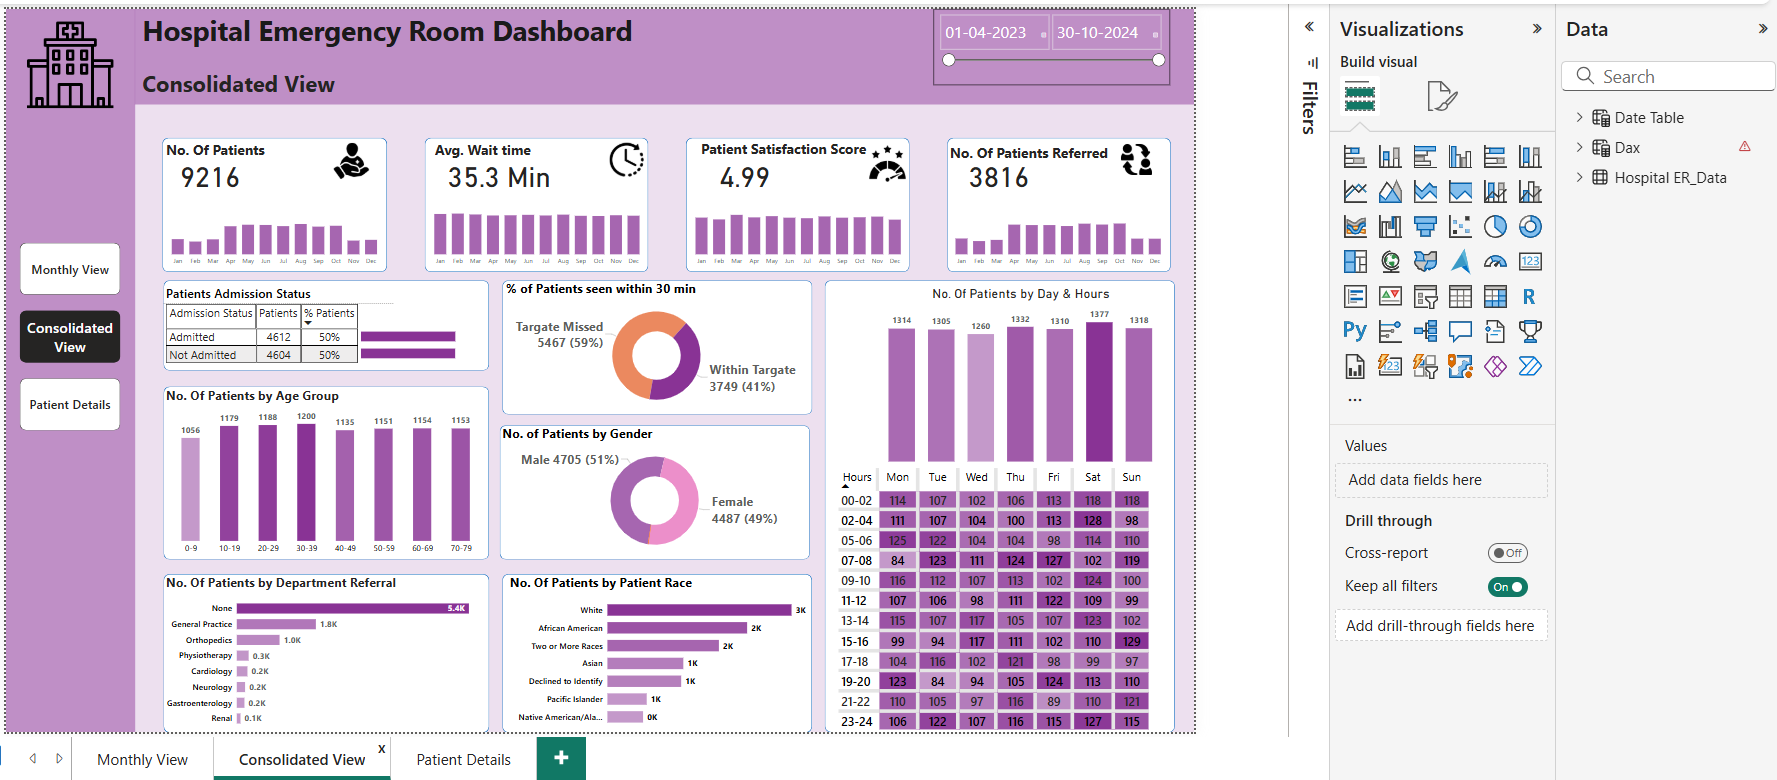

The dashboard page shown, as its layout file describes it:
{"tool":"powerbi","page":{"name":"Consolidated View","canvas":[2300,1400],"ordinal":1},"visuals":[{"type":"shape","box":[955,805,600,260],"z":0},{"type":"shape","box":[305,525,630,175],"z":1000},{"type":"shape","box":[0,0,250,1400],"z":2000},{"type":"shape","box":[250,0,2050,185],"z":3000},{"type":"textbox","box":[260,0,977.5,92.5],"z":4000},{"type":"shape","box":[302.5,250,435,260],"z":5000},{"type":"textbox","box":[258.8,108.8,457.2,75],"z":6000},{"type":"card","fields":{"Values":["Dax.No. Of Patients"]},"box":[305,255,180,130],"z":7000},{"type":"slicer","fields":{"Values":["Date Table.Date"]},"box":[1795,0,457.5,147.5],"z":8000},{"type":"textbox","box":[305,250,260,60],"z":9000},{"type":"shape","box":[810.3,250,432.5,260],"z":10000},{"type":"columnChart","fields":{"Category":["Date Table.Month"],"Y":["Dax.No. Of Patients"]},"box":[302.5,374.5,435,130],"z":11000},{"type":"card","fields":{"Values":["Dax.Avg Wait time"]},"box":[836.5,255,235,130],"z":12000},{"type":"textbox","box":[824,250,260,60],"z":13000},{"type":"shape","box":[1315.7,248,432.5,260],"z":14000},{"type":"card","fields":{"Values":["Dax.Avg Satisfaction score"]},"box":[1340.5,253,180,130],"z":15000},{"type":"columnChart","fields":{"Y":["Dax.Avg Satisfaction score"],"Category":["Date Table.Month"]},"box":[1315,374.5,435,130],"z":16000},{"type":"shape","box":[1821,248,432.5,260],"z":17000},{"type":"card","fields":{"Values":["Dax.No. of patients referred"]},"box":[1821,253,200,130],"z":18000},{"type":"textbox","box":[1821,253,400,65],"z":19000},{"type":"columnChart","fields":{"Category":["Date Table.Month"],"Y":["Dax.No. of patients referred"]},"box":[1818.5,375,435,130],"z":20000},{"type":"columnChart","fields":{"Y":["Avg(Hospital ER_Data.Patient Waittime)"],"Category":["Date Table.Month"]},"box":[810,374.5,435,130],"z":21000},{"type":"shape","box":[960,525,600,260],"z":22000},{"type":"textbox","box":[1340,247.5,365,60],"z":23000},{"type":"pivotTable","title":"Patients Admission Status","fields":{"Values":["Dax.No. Of Patients","Divide(Dax.No. Of Patients, ScopedEval(Dax.No. Of Patients, []))"],"Rows":["Hospital ER_Data.Admission Status"]},"box":[305,535,445,160],"z":24000},{"type":"shape","box":[305,730,630,335],"z":25000},{"type":"barChart","fields":{"Category":["Hospital ER_Data.Admission Status"],"Y":["Dax.No. Of Patients"]},"box":[682.5,595,247.5,105],"z":26000},{"type":"clusteredColumnChart","fields":{"Category":["Hospital ER_Data.Age Group"],"Y":["Dax.No. Of Patients"]},"box":[305,730,630,335],"z":27000},{"type":"shape","box":[305,1092.5,630,307.5],"z":28000},{"type":"clusteredBarChart","fields":{"Category":["Hospital ER_Data.Department Referral"],"Y":["Dax.No. Of Patients"]},"box":[305,1092.5,625,307.5],"z":29000},{"type":"donutChart","title":"% of Patients seen within 30 min","fields":{"Category":["Hospital ER_Data.Waittime Status"],"Y":["Dax.No. Of Patients"]},"box":[962.5,525,592.5,260],"z":30000},{"type":"donutChart","title":"No. of Patients by Gender","fields":{"Y":["Dax.No. Of Patients"],"Category":["Hospital ER_Data.Patient Gender"]},"box":[955,805,600,260],"z":31000},{"type":"shape","box":[960,1092.5,600,307.5],"z":32000},{"type":"clusteredBarChart","fields":{"Y":["Dax.No. Of Patients"],"Category":["Hospital ER_Data.Patient Race"]},"box":[970,1092.5,585,307.5],"z":33000},{"type":"shape","box":[1585,525,677.5,875],"z":34000},{"type":"pivotTable","fields":{"Rows":["Hospital ER_Data.Waiting Interval"],"Columns":["Date Table.Day Name"],"Values":["Dax.No. Of Patients"]},"box":[1605,882.5,647.5,517.5],"z":35000},{"type":"columnChart","title":"No. Of Patients by Day & Hours","fields":{"Category":["Date Table.Day Name"],"Y":["Dax.No. Of Patients"]},"box":[1702.5,537.5,522.5,345],"z":36000},{"type":"image","box":[27.5,17.5,195,182.5],"z":37000},{"type":"image","box":[620,250,97.5,90],"z":38000},{"type":"image","box":[1162.5,247.5,75,90],"z":39000},{"type":"image","box":[2150,257.5,75,70],"z":40000},{"type":"image","box":[1662.5,257.5,87.5,85],"z":41000},{"type":"pageNavigator","box":[27,452.5,195,365],"z":42000}]}

Visuals, with their boxes on the page's 2300x1400 design canvas (x1, y1, x2, y2). These are canvas units, not pixel positions in the 1777x780 screenshot, which may show the page scaled, cropped or inside an application window:
shape: [left=955, top=805, right=1555, bottom=1065]
shape: [left=305, top=525, right=935, bottom=700]
shape: [left=0, top=0, right=250, bottom=1400]
shape: [left=250, top=0, right=2300, bottom=185]
textbox: [left=260, top=0, right=1238, bottom=92]
shape: [left=302, top=250, right=738, bottom=510]
textbox: [left=259, top=109, right=716, bottom=184]
card - Dax.No. Of Patients: [left=305, top=255, right=485, bottom=385]
slicer - Date Table.Date: [left=1795, top=0, right=2252, bottom=148]
textbox: [left=305, top=250, right=565, bottom=310]
shape: [left=810, top=250, right=1243, bottom=510]
columnChart - Date Table.Month x Dax.No. Of Patients: [left=302, top=374, right=738, bottom=504]
card - Dax.Avg Wait time: [left=836, top=255, right=1072, bottom=385]
textbox: [left=824, top=250, right=1084, bottom=310]
shape: [left=1316, top=248, right=1748, bottom=508]
card - Dax.Avg Satisfaction score: [left=1340, top=253, right=1520, bottom=383]
columnChart - Dax.Avg Satisfaction score x Date Table.Month: [left=1315, top=374, right=1750, bottom=504]
shape: [left=1821, top=248, right=2254, bottom=508]
card - Dax.No. of patients referred: [left=1821, top=253, right=2021, bottom=383]
textbox: [left=1821, top=253, right=2221, bottom=318]
columnChart - Date Table.Month x Dax.No. of patients referred: [left=1818, top=375, right=2254, bottom=505]
columnChart - Avg(Hospital ER_Data.Patient Waittime) x Date Table.Month: [left=810, top=374, right=1245, bottom=504]
shape: [left=960, top=525, right=1560, bottom=785]
textbox: [left=1340, top=248, right=1705, bottom=308]
"Patients Admission Status" pivotTable: [left=305, top=535, right=750, bottom=695]
shape: [left=305, top=730, right=935, bottom=1065]
barChart - Hospital ER_Data.Admission Status x Dax.No. Of Patients: [left=682, top=595, right=930, bottom=700]
clusteredColumnChart - Hospital ER_Data.Age Group x Dax.No. Of Patients: [left=305, top=730, right=935, bottom=1065]
shape: [left=305, top=1092, right=935, bottom=1400]
clusteredBarChart - Hospital ER_Data.Department Referral x Dax.No. Of Patients: [left=305, top=1092, right=930, bottom=1400]
"% of Patients seen within 30 min" donutChart: [left=962, top=525, right=1555, bottom=785]
"No. of Patients by Gender" donutChart: [left=955, top=805, right=1555, bottom=1065]
shape: [left=960, top=1092, right=1560, bottom=1400]
clusteredBarChart - Dax.No. Of Patients x Hospital ER_Data.Patient Race: [left=970, top=1092, right=1555, bottom=1400]
shape: [left=1585, top=525, right=2262, bottom=1400]
pivotTable - Hospital ER_Data.Waiting Interval x Date Table.Day Name: [left=1605, top=882, right=2252, bottom=1400]
"No. Of Patients by Day & Hours" columnChart: [left=1702, top=538, right=2225, bottom=882]
image: [left=28, top=18, right=222, bottom=200]
image: [left=620, top=250, right=718, bottom=340]
image: [left=1162, top=248, right=1238, bottom=338]
image: [left=2150, top=258, right=2225, bottom=328]
image: [left=1662, top=258, right=1750, bottom=342]
pageNavigator: [left=27, top=452, right=222, bottom=818]
